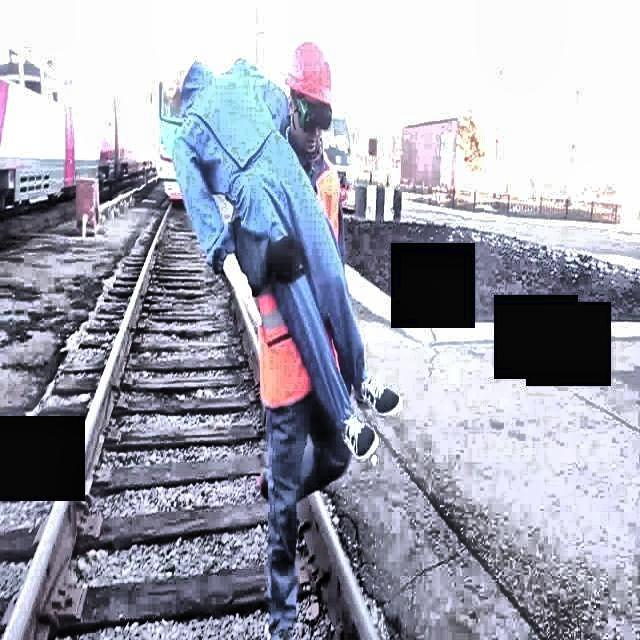safety_helmet: (283, 39, 337, 107)
safety_jacket: (258, 158, 342, 411)
